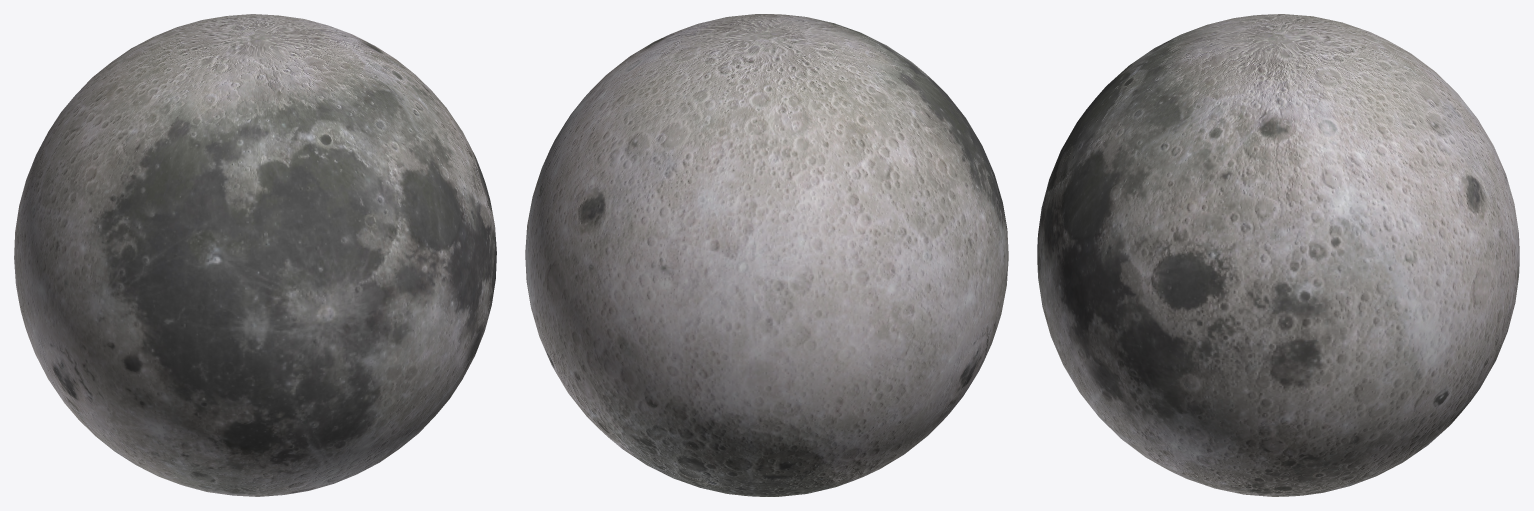
The model's file is 3d moon.FBX.
3 views of the same model, side by side, from view 1: azimuth 30°, elevation 25°; view 2: azimuth 150°, elevation 25°; view 3: azimuth 270°, elevation 25° (orthographic).
Visible parts, largest first — view 1: GeoSphere001; view 2: GeoSphere001; view 3: GeoSphere001.
Part boxes in pixels (bbox=[...]): GeoSphere001: bbox=[14, 14, 496, 496]; GeoSphere001: bbox=[525, 14, 1008, 496]; GeoSphere001: bbox=[1037, 14, 1519, 496].
Size of the model in its own units: 120 by 120 by 120.
Materials: 1 (1 with a texture image).
